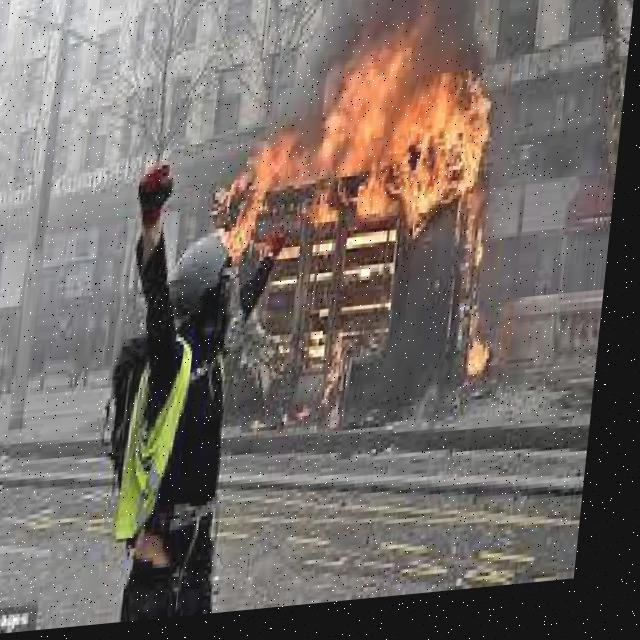Fire: (221, 35, 503, 266), (452, 317, 511, 391)
